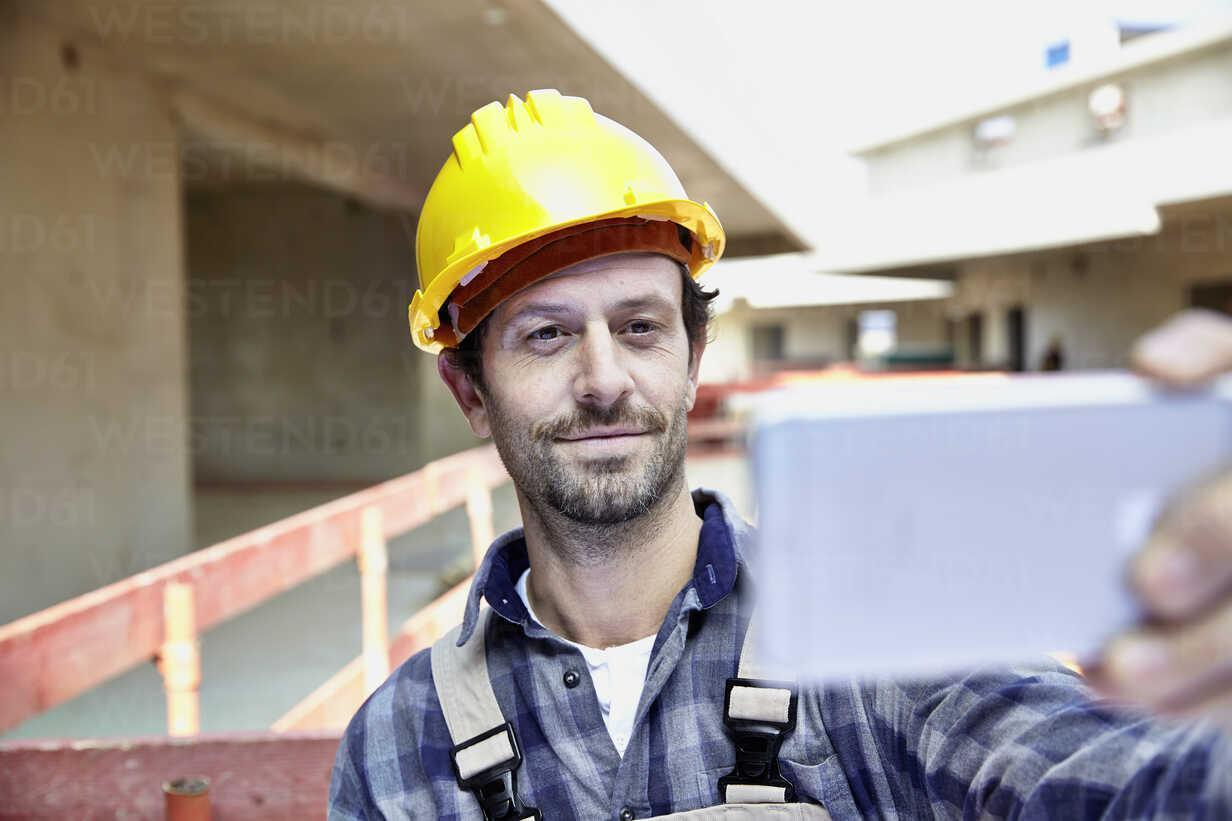helmet: (408, 89, 727, 349)
